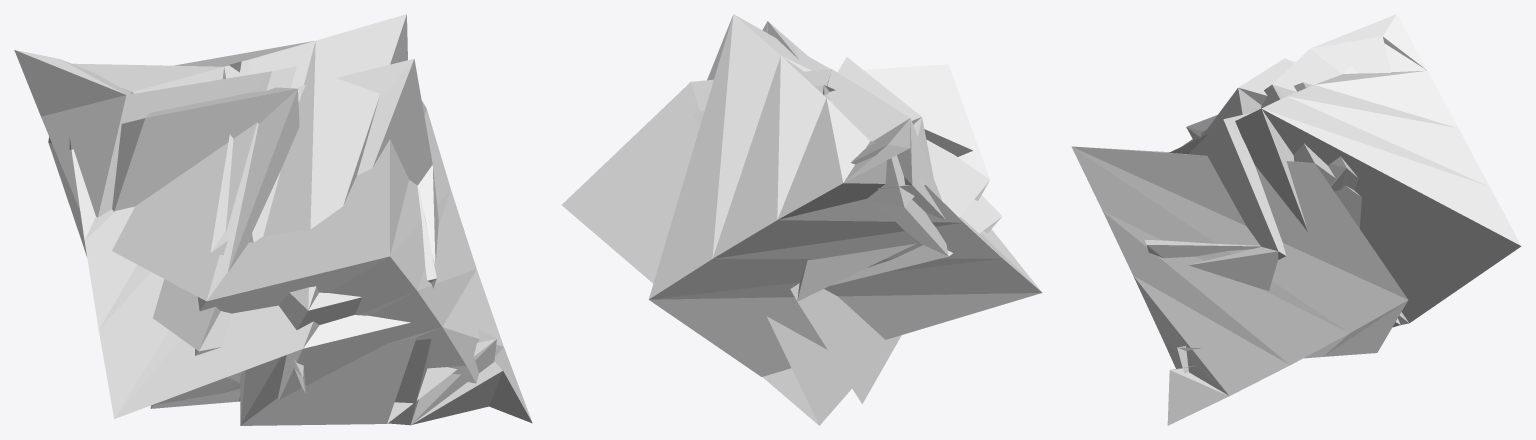
File: bolapapel.obj
3 renders of one model, left to right at view 1: azimuth 30°, elevation 25°; view 2: azimuth 150°, elevation 25°; view 3: azimuth 270°, elevation 25°, orthographic. The views are drawn at different scales.
Parts seen in each view (by area): view 1: Cube_Cube.002; view 2: Cube_Cube.002; view 3: Cube_Cube.002.
Boxes of the visible parts, box(x1,y1,x2,y2) form: Cube_Cube.002: box(14, 14, 532, 425); Cube_Cube.002: box(562, 14, 1042, 425); Cube_Cube.002: box(1071, 14, 1521, 425).
Size of the model in its own units: 2.74 by 2.36 by 3.08.
